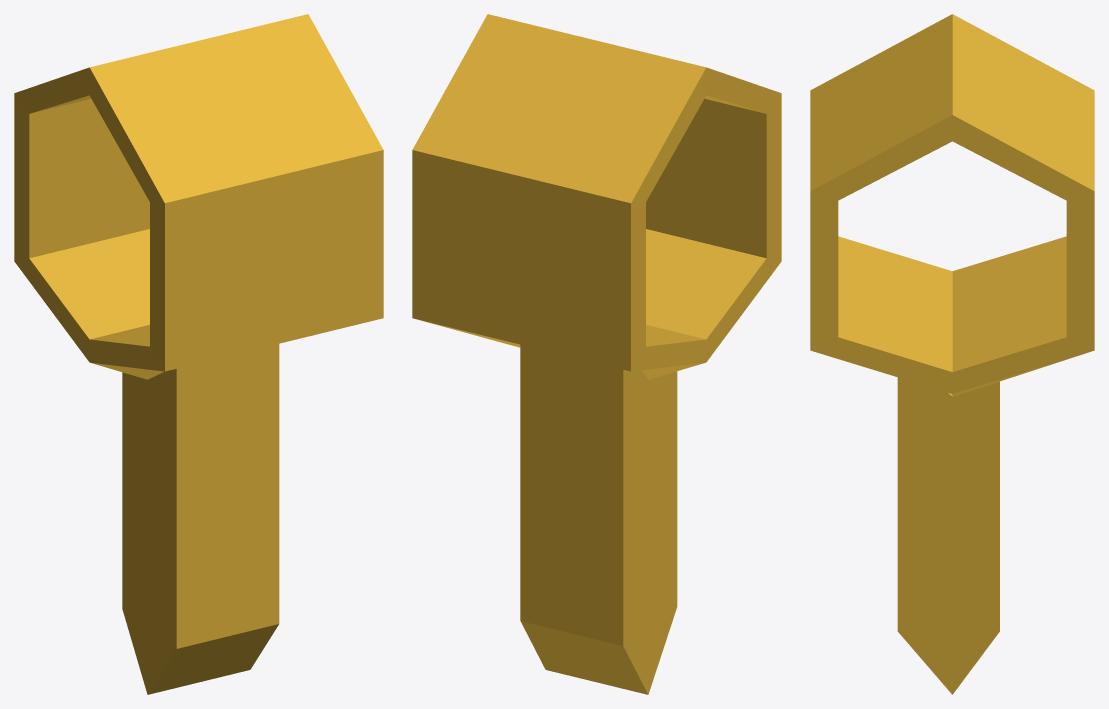
File: ping.fbx
3 views of the same model, side by side, from view 1: azimuth 30°, elevation 25°; view 2: azimuth 150°, elevation 25°; view 3: azimuth 270°, elevation 25° (orthographic). The views are drawn at different scales.
Parts seen in each view (by area): view 1: Cube; view 2: Cube; view 3: Cube.
Boxes of the visible parts, <box> form: Cube: <box>14,14,383,694</box>; Cube: <box>412,14,781,694</box>; Cube: <box>810,14,1094,694</box>.
Size of the model in its own units: 38.96 by 46.41 by 109.
